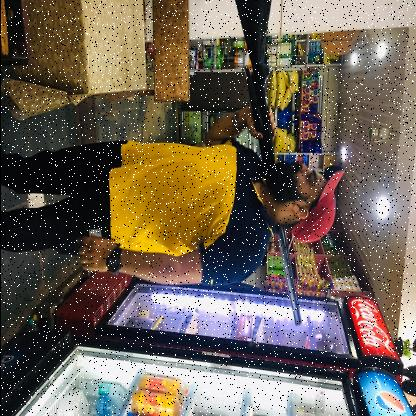rifle: (233, 0, 302, 326)
